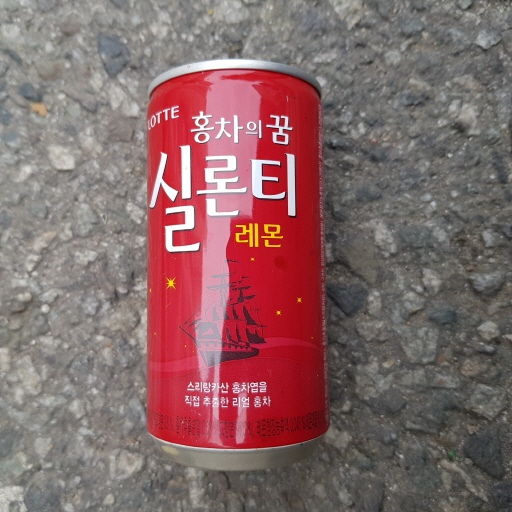Metal_0: (142, 59, 332, 468)
